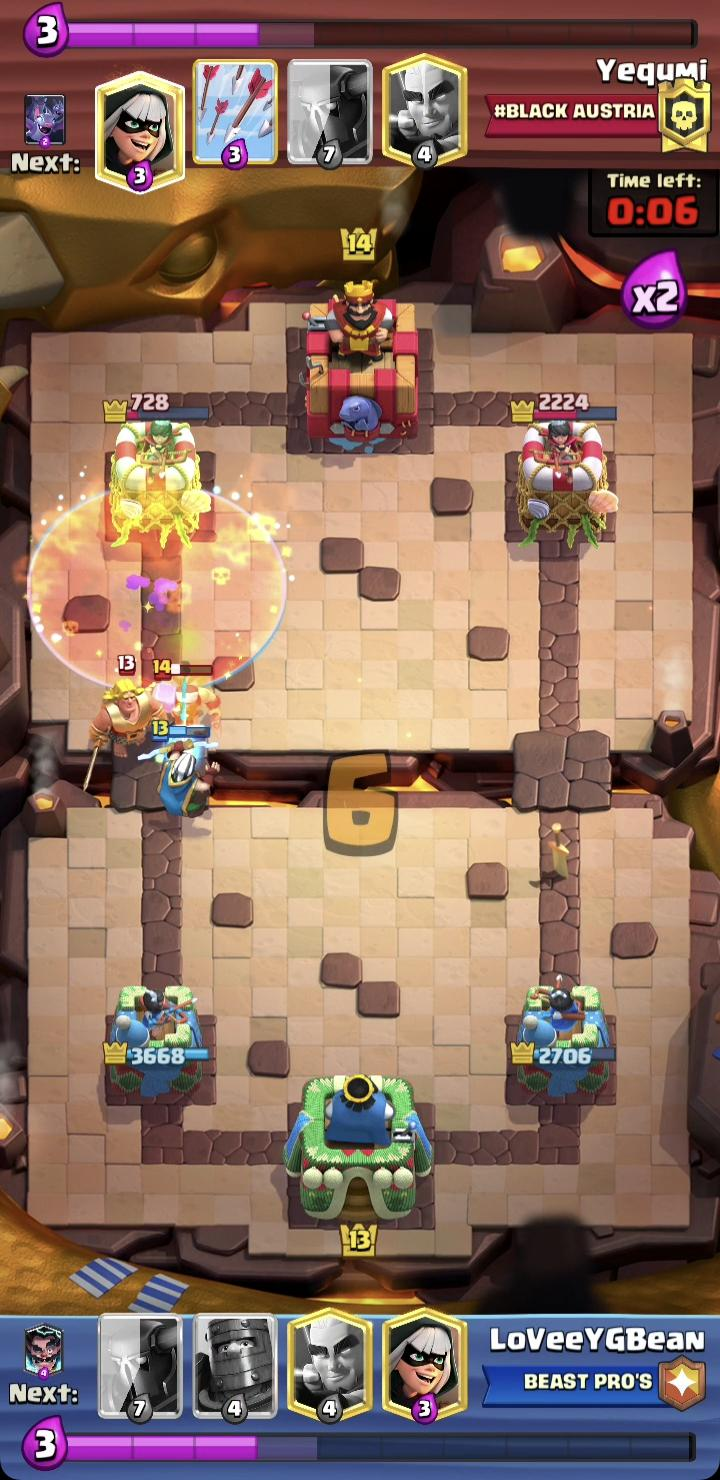ally_magic_archer: (139, 720, 221, 816)
ally_poison: (27, 486, 288, 692)
enemy_goldenknight: (83, 654, 170, 792)
enemy_lumberjack: (152, 656, 222, 740)
